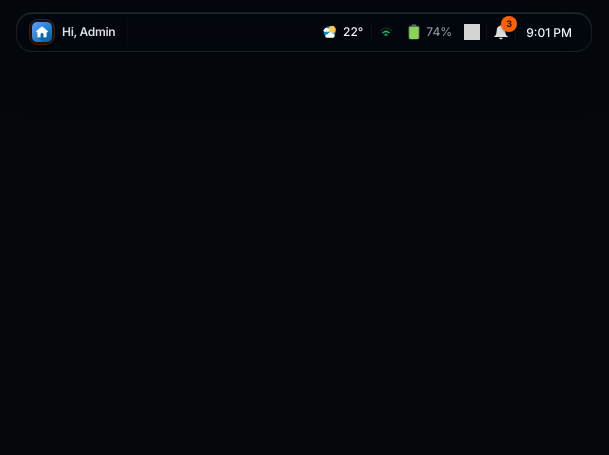
it: StatusBar › renders derived backend alerts in notifications
Expected: the text "3" is shown, [501,16,517,32]
Step 1. Click the button named "Notifications" → [501, 32], box [487,18,515,46]
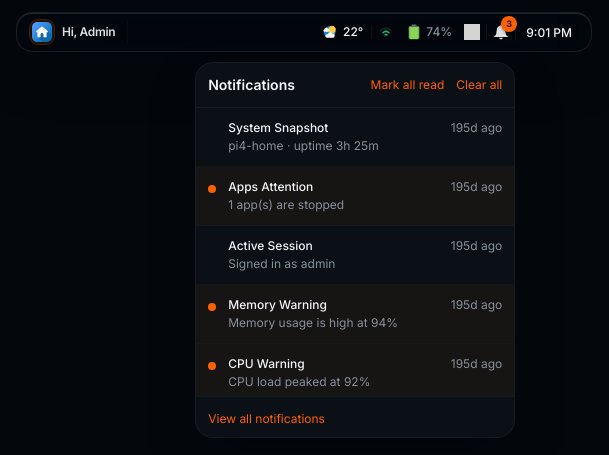
Expected: the text "Memory Warning" is shown, [228,297,327,313]
Expected: the text "CPU Warning" is shown, [228,356,305,372]
Expected: the text "Apps Attention" is shown, [228,179,313,195]
